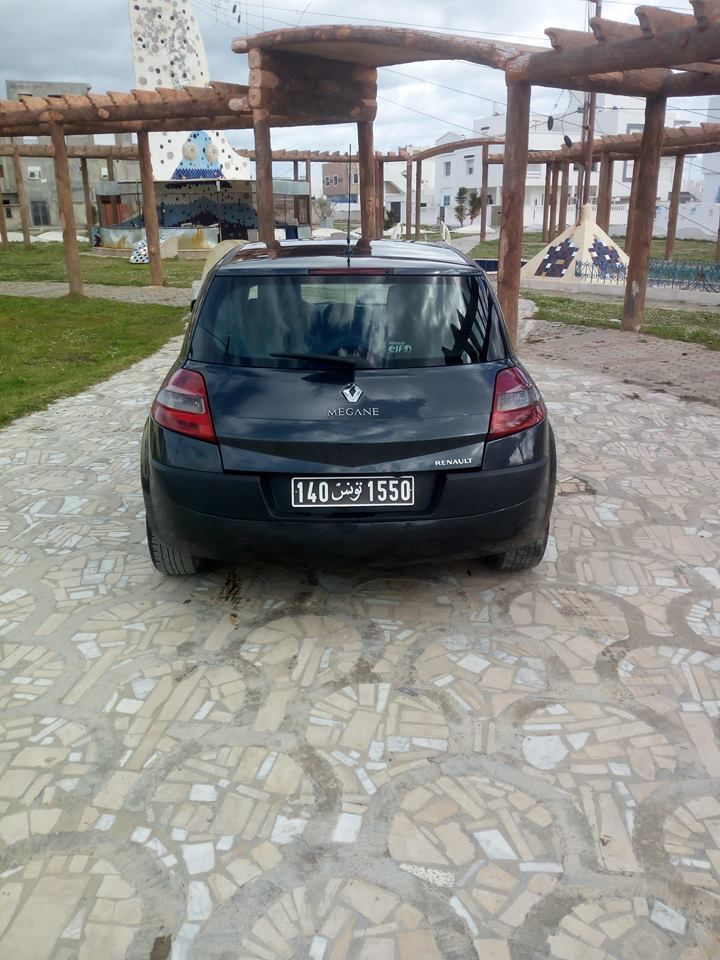LP: (288, 473, 422, 508)
